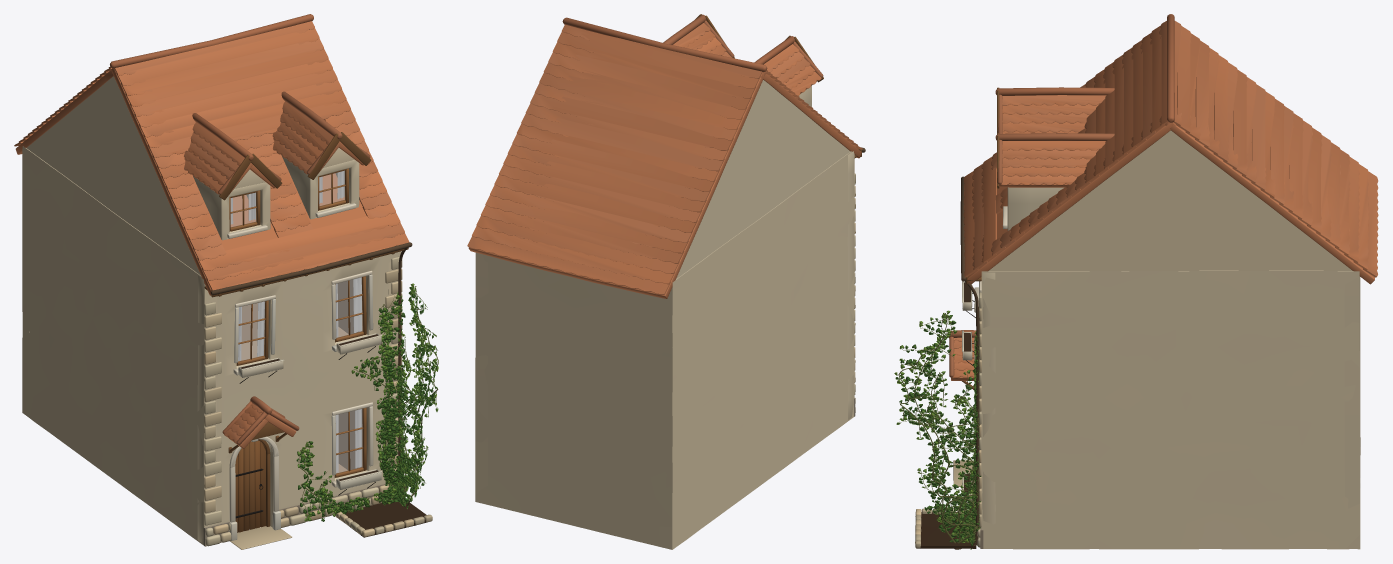
The model's file is LibraryRow_Neighbor4.glb.
3 views of the same model, side by side, from view 1: azimuth 30°, elevation 25°; view 2: azimuth 150°, elevation 25°; view 3: azimuth 270°, elevation 25° (orthographic). The views are drawn at different scales.
Visible parts, largest first — view 1: Sammel Putz, Sammel Stein, Sammel Pflanze, Sammel Holz, Glas, Sammel Putz innen, Vorhang Leinen, Sammel Metall, Sammel Lack; view 2: Sammel Putz, Sammel Stein; view 3: Sammel Putz, Sammel Stein, Sammel Pflanze, Sammel Metall.
Part boxes in pixels (left/top/right/bottom): Sammel Putz: left=22, top=76, right=438, bottom=546; Sammel Stein: left=14, top=14, right=432, bottom=549; Sammel Pflanze: left=296, top=283, right=438, bottom=521; Sammel Holz: left=204, top=132, right=408, bottom=532; Glas: left=231, top=171, right=362, bottom=473; Sammel Putz innen: left=238, top=279, right=361, bottom=472; Vorhang Leinen: left=230, top=171, right=362, bottom=472; Sammel Metall: left=211, top=242, right=412, bottom=518; Sammel Lack: left=238, top=333, right=382, bottom=489; Sammel Putz: left=475, top=80, right=855, bottom=549; Sammel Stein: left=467, top=14, right=862, bottom=412; Sammel Putz: left=898, top=130, right=1360, bottom=549; Sammel Stein: left=915, top=14, right=1378, bottom=548; Sammel Pflanze: left=894, top=310, right=981, bottom=549; Sammel Metall: left=960, top=176, right=979, bottom=545.
Size of what is drawn, in the model's own units: 5.14 by 10.19 by 10.23.
